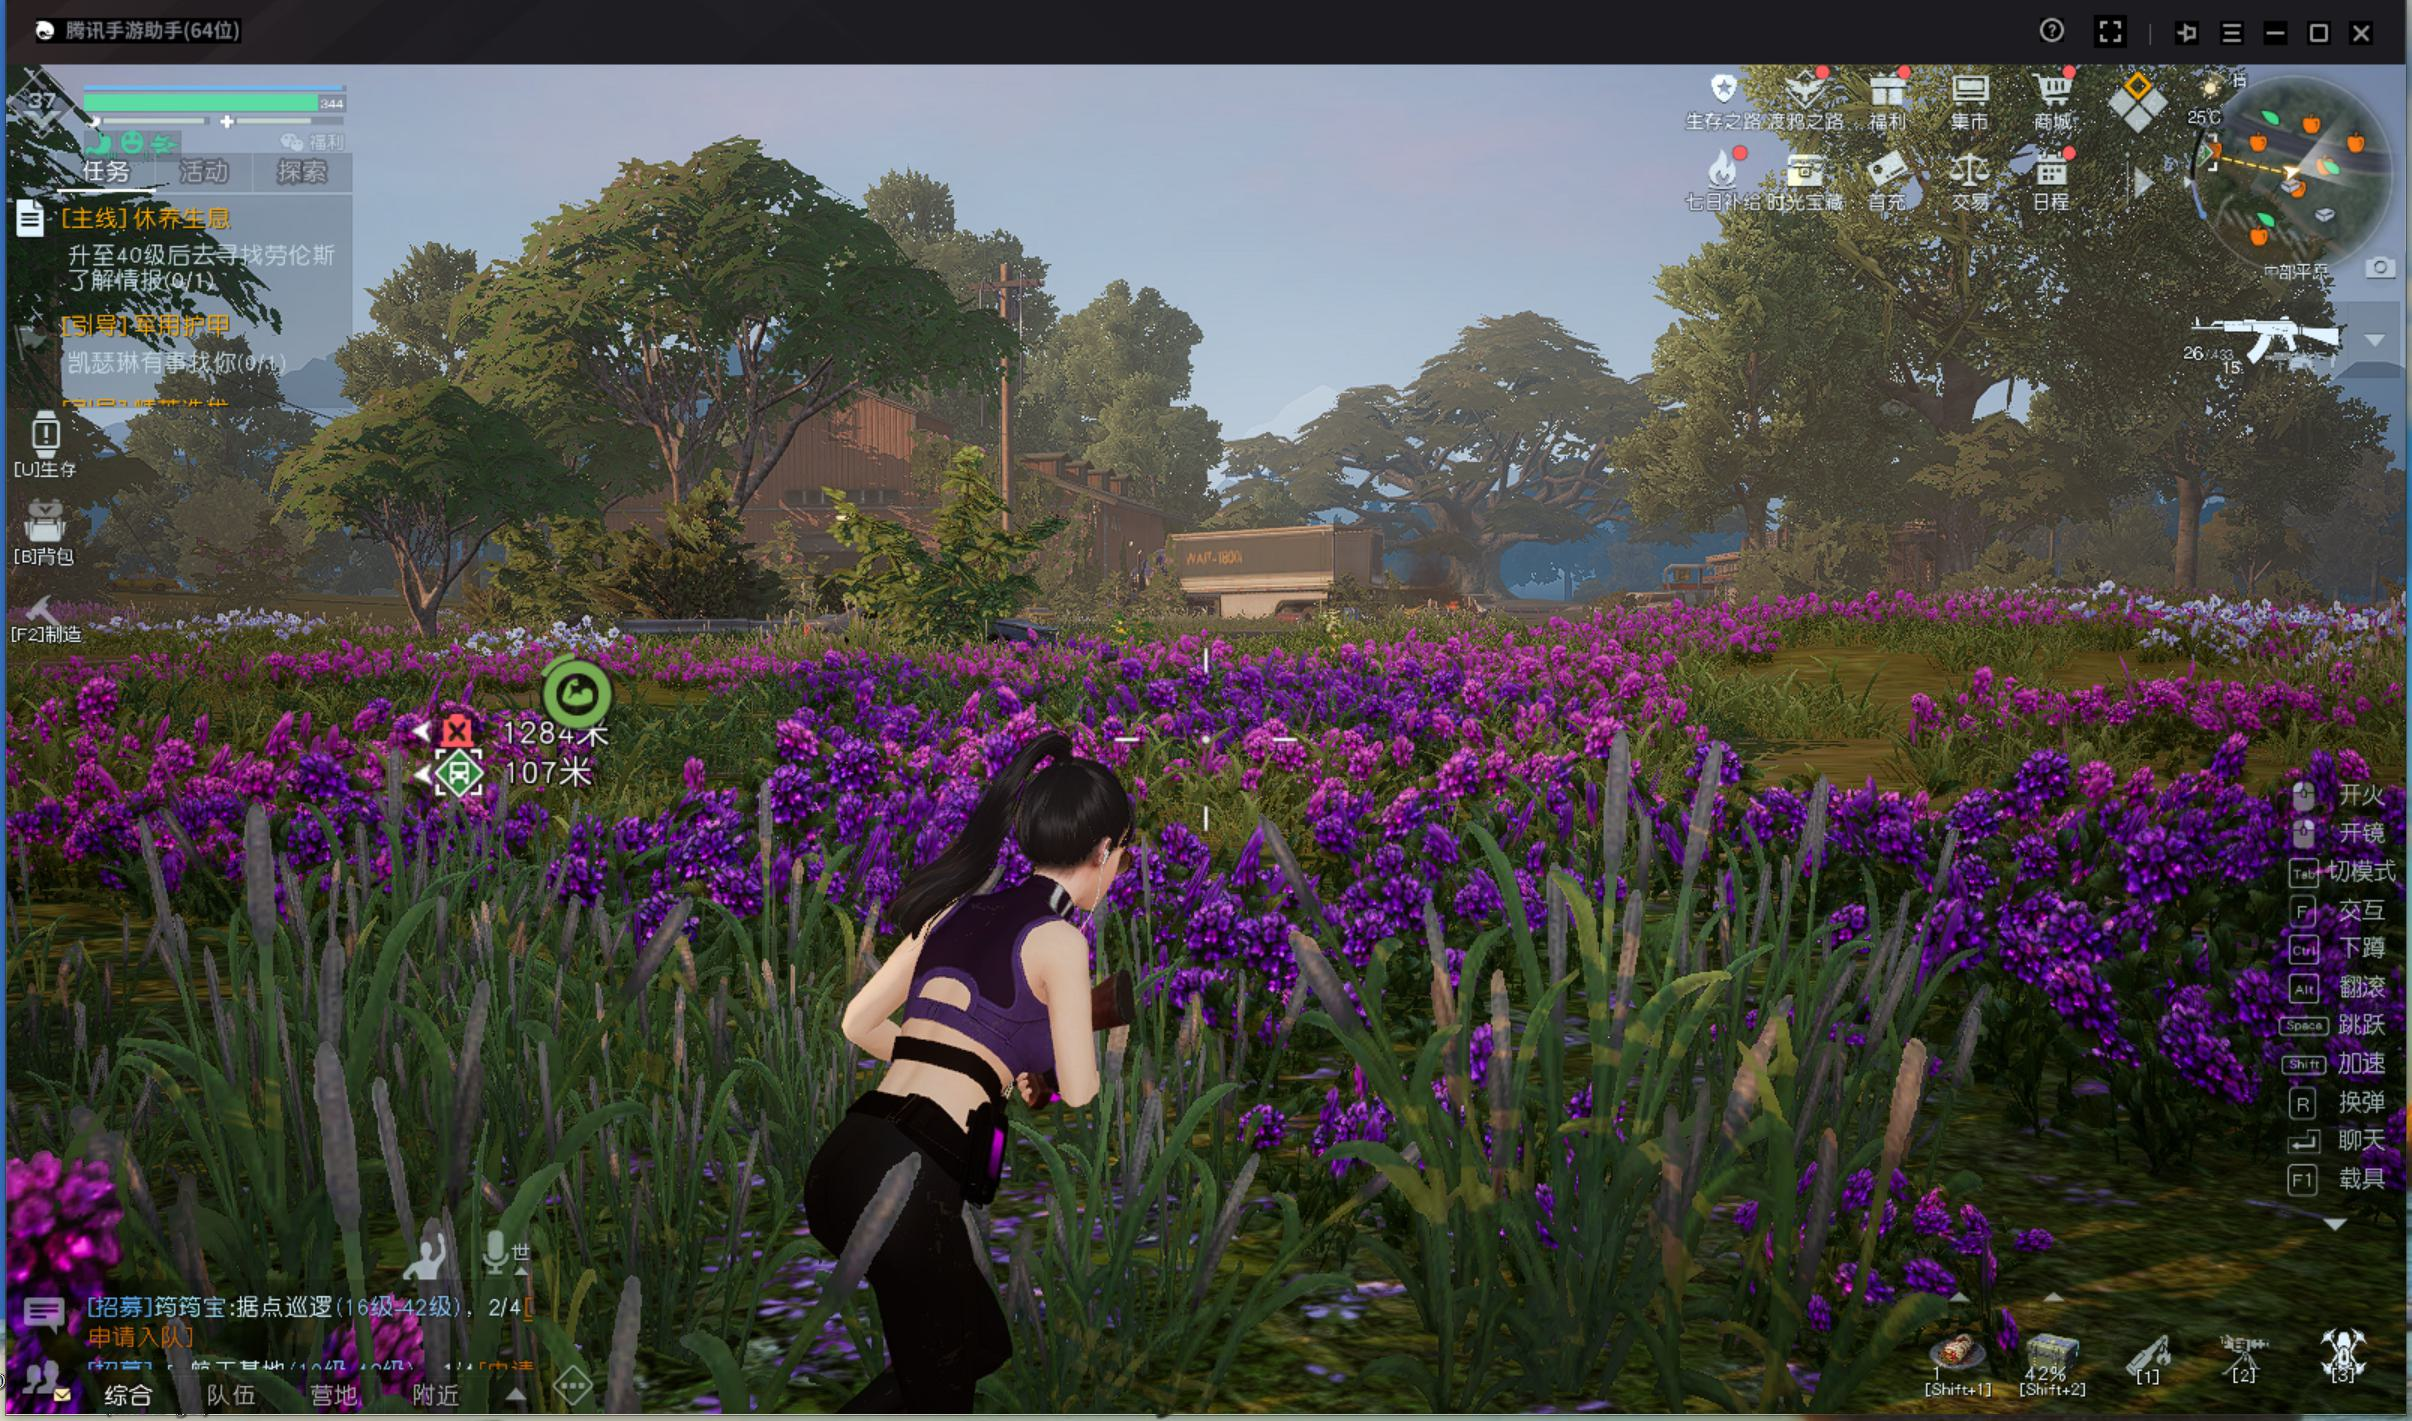tree: (2157, 469, 2217, 617), (399, 575, 460, 650)
